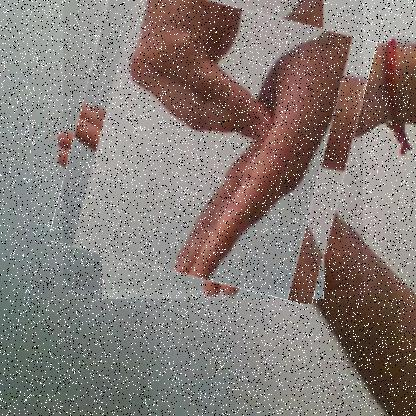Z: (62, 0, 363, 291)
